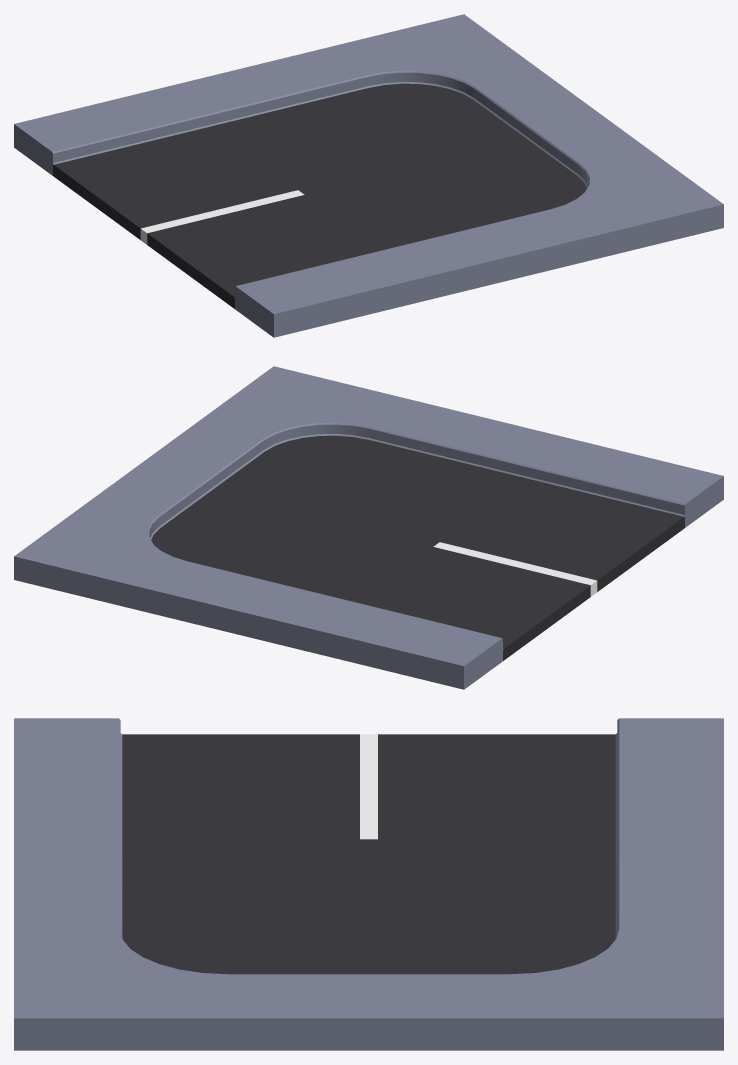
File: road-end.fbx
The picture shows the model from 3 angles, top to bottom: view 1: azimuth 30°, elevation 25°; view 2: azimuth 150°, elevation 25°; view 3: azimuth 270°, elevation 25°; orthographic projection. The views are drawn at different scales.
Parts seen in each view (by area): view 1: road-end; view 2: road-end; view 3: road-end.
Boxes of the visible parts, x1,y1,x2,y2 form: road-end: [14, 14, 723, 337]; road-end: [14, 366, 723, 689]; road-end: [14, 718, 723, 1050].
Size of the model in its own units: 400 by 400 by 20.
